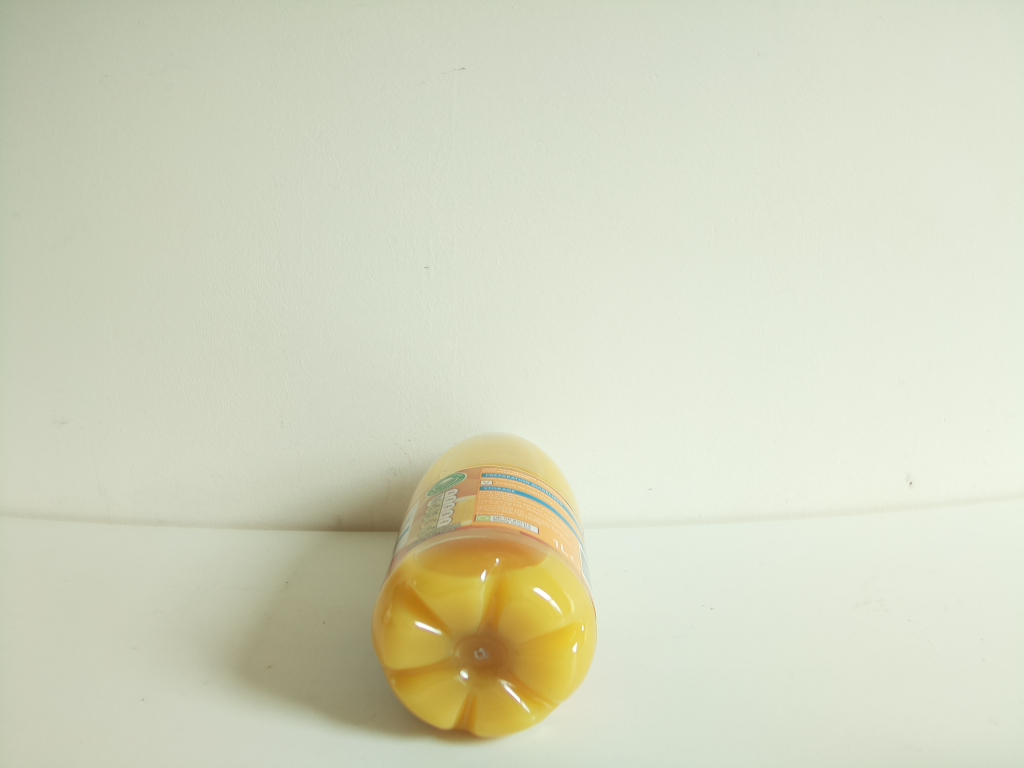juice: (375, 428, 598, 745)
